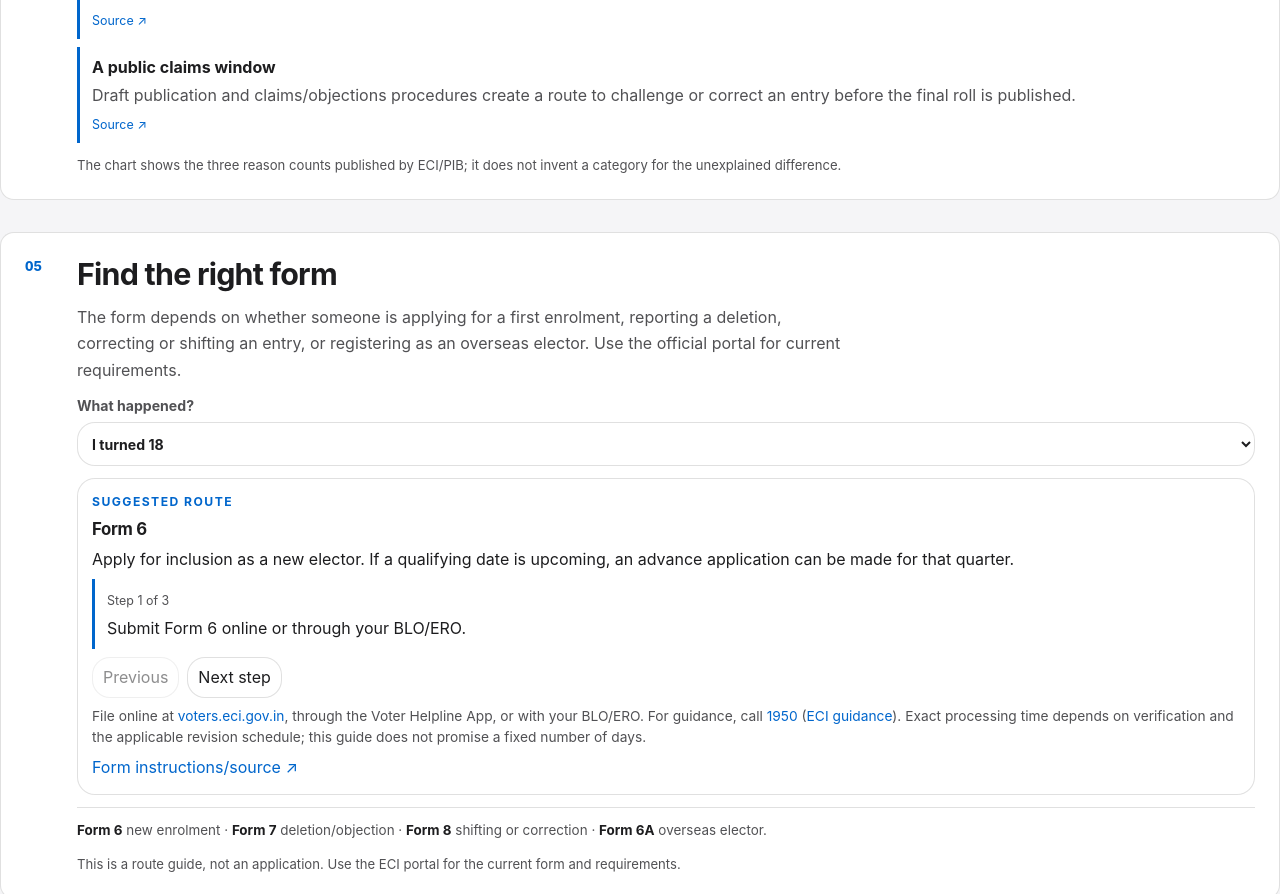
VoterRollAtlas › steps through the selected voter scenario
This screenshot has width=1280, height=894.
(page scrolled)
Select "I moved house" in the dropdown named "Choose a voter scenario": [666, 444] box [77,422,1255,466]
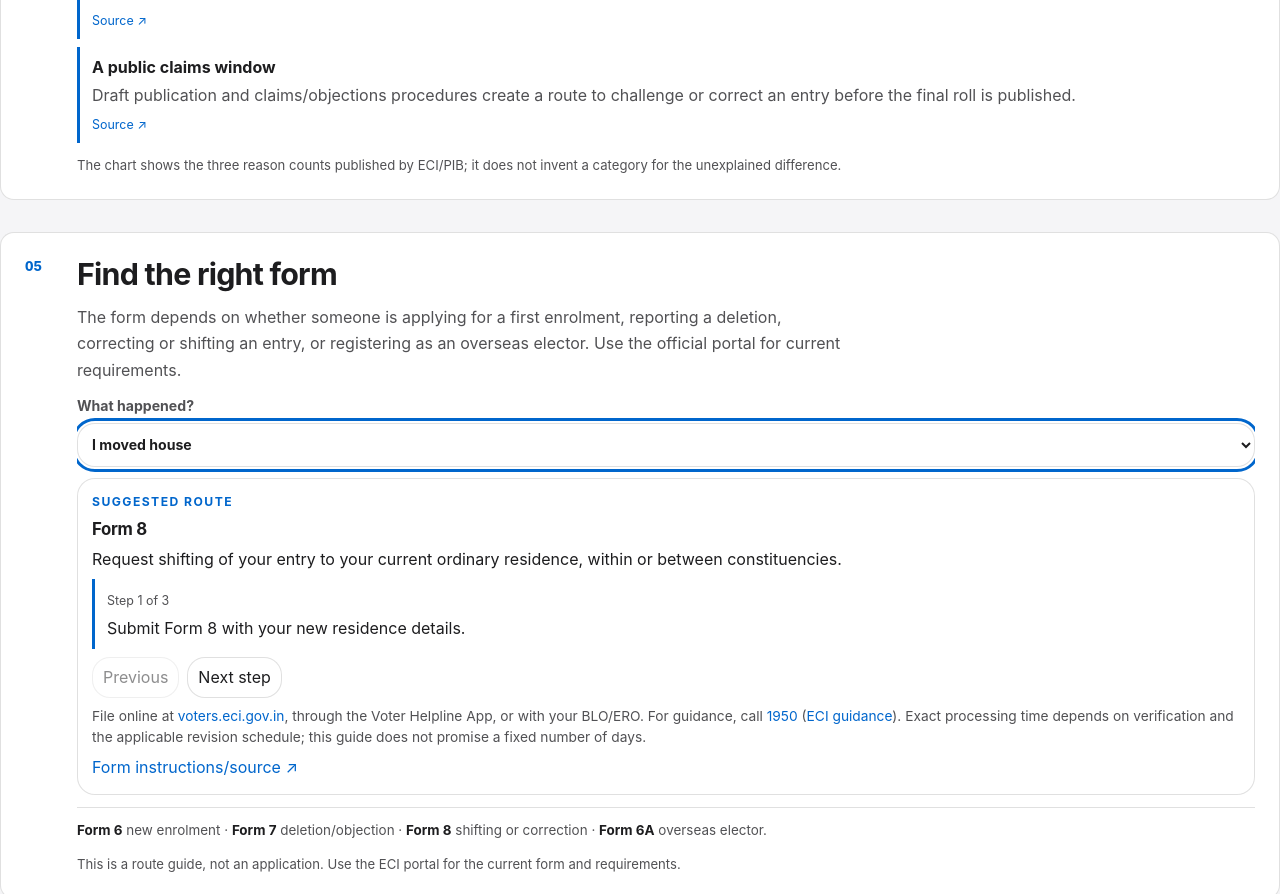
Check: the heading "Form 8" is shown, box [92,519,147,539]
Click the button "Next step": [235, 678] box [187,657,282,698]
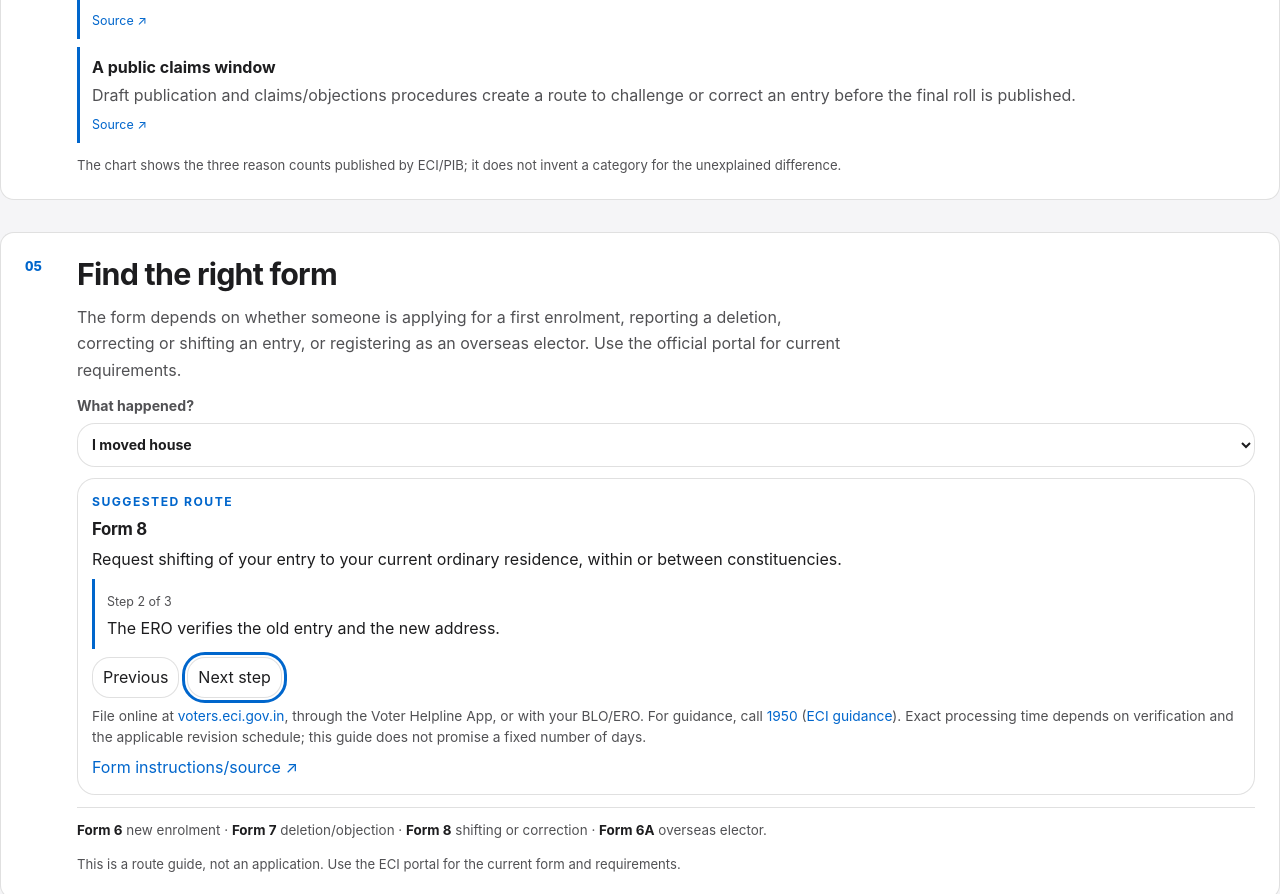
Check: the text "The ERO verifies the old entry and the new address." is shown, box [107,618,500,638]
